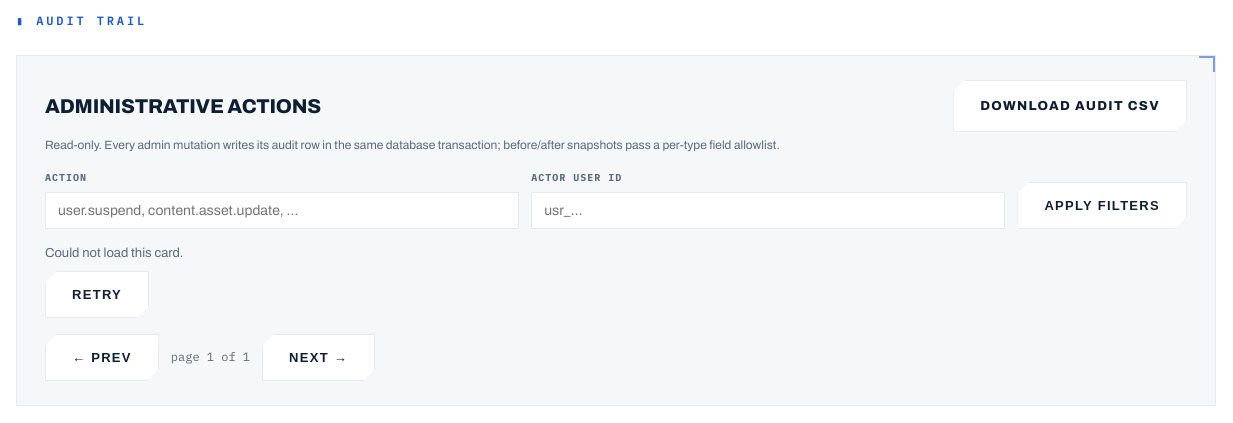
it: AuditViewer › shows an in-voice error with RETRY when the fetch fails
This screenshot has width=1233, height=423.
Check: the element with test id "audit-error" is shown, box [45,246,184,318]
Click the button "Retry" at point(97, 294), box [45,271,149,318]
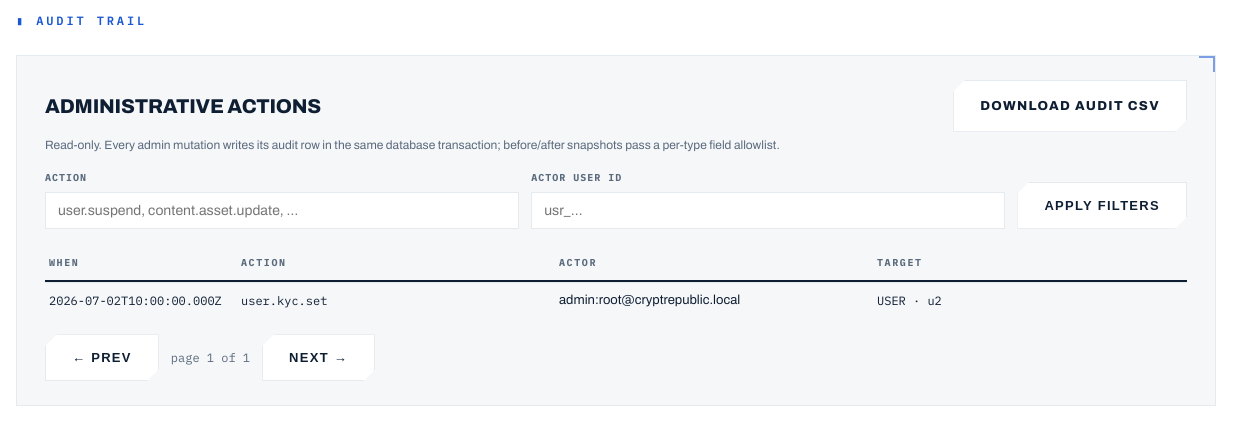
Check: the element with test id "audit-row" is shown, box [45,282,1187,318]
